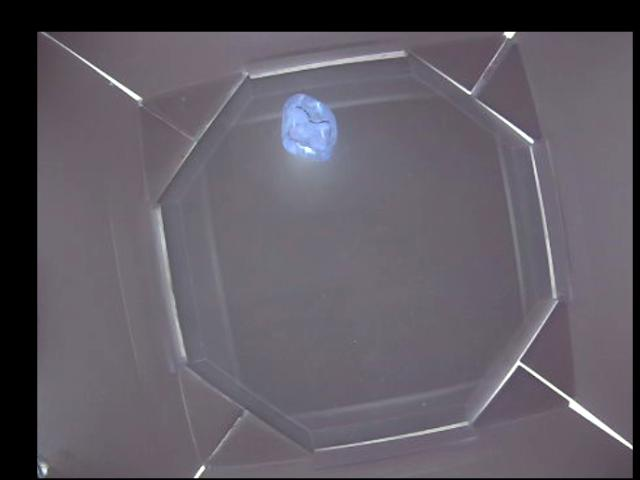Pebble: (281, 94, 336, 163)
